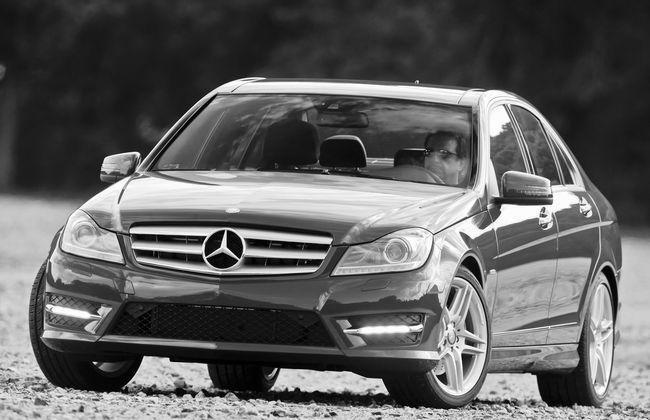car: (30, 78, 624, 408)
